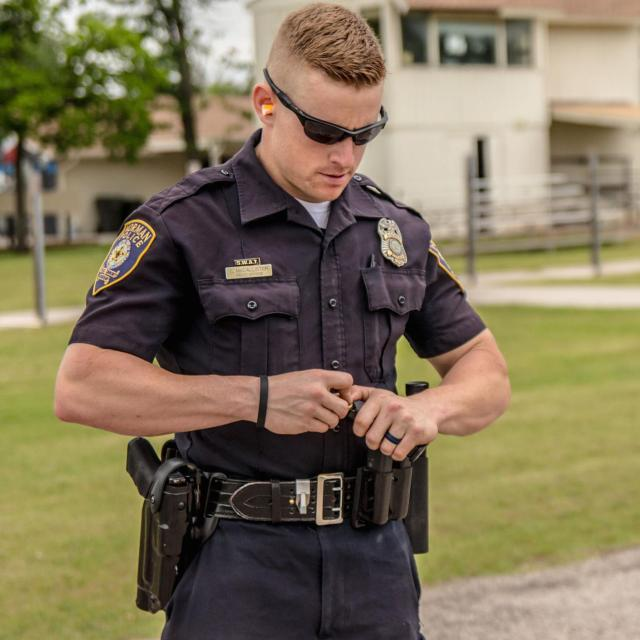police: (30, 6, 531, 640)
